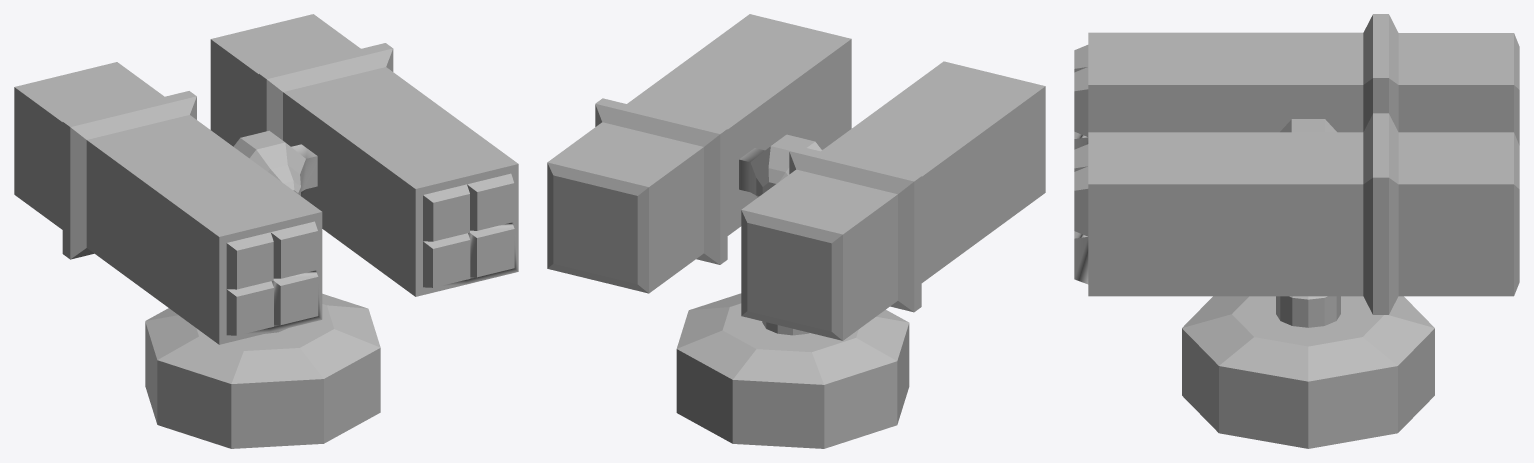
Rendered from Turret_01.fbx.
3 views of the same model, side by side, from view 1: azimuth 30°, elevation 25°; view 2: azimuth 150°, elevation 25°; view 3: azimuth 270°, elevation 25° (orthographic). The views are drawn at different scales.
Parts seen in each view (by area): view 1: Turret_01_MainGunRightPart, Turret_01_MainGunLeftPart, Turret_01_LowerBody, Turret_01_MainGunBody; view 2: Turret_01_MainGunRightPart, Turret_01_MainGunLeftPart, Turret_01_LowerBody, Turret_01_MainGunBody; view 3: Turret_01_MainGunLeftPart, Turret_01_MainGunRightPart, Turret_01_LowerBody, Turret_01_Body, Turret_01_MainGunBody.
Boxes of the visible parts, x1,y1,x2,y2 form: Turret_01_MainGunRightPart: (14,62,322,344); Turret_01_MainGunLeftPart: (210,14,518,296); Turret_01_LowerBody: (145,293,380,448); Turret_01_MainGunBody: (233,130,317,195); Turret_01_MainGunRightPart: (741,61,1045,340); Turret_01_MainGunLeftPart: (547,14,851,293); Turret_01_LowerBody: (676,293,909,448); Turret_01_MainGunBody: (739,134,822,198); Turret_01_MainGunLeftPart: (1074,113,1519,314); Turret_01_MainGunRightPart: (1074,14,1519,149); Turret_01_LowerBody: (1182,296,1434,448); Turret_01_Body: (1276,296,1340,327); Turret_01_MainGunBody: (1280,119,1336,132).
Size of the model in its own units: 47.07 by 40.21 by 54.13.
